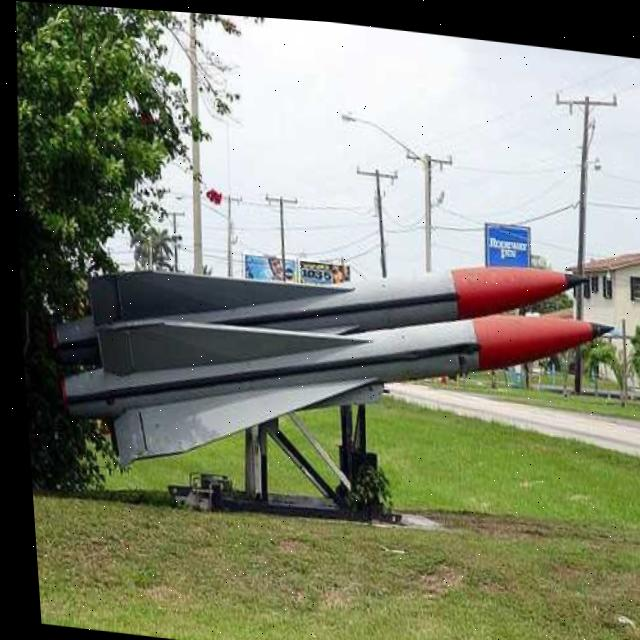missile: (44, 251, 620, 513), (39, 204, 598, 429)
